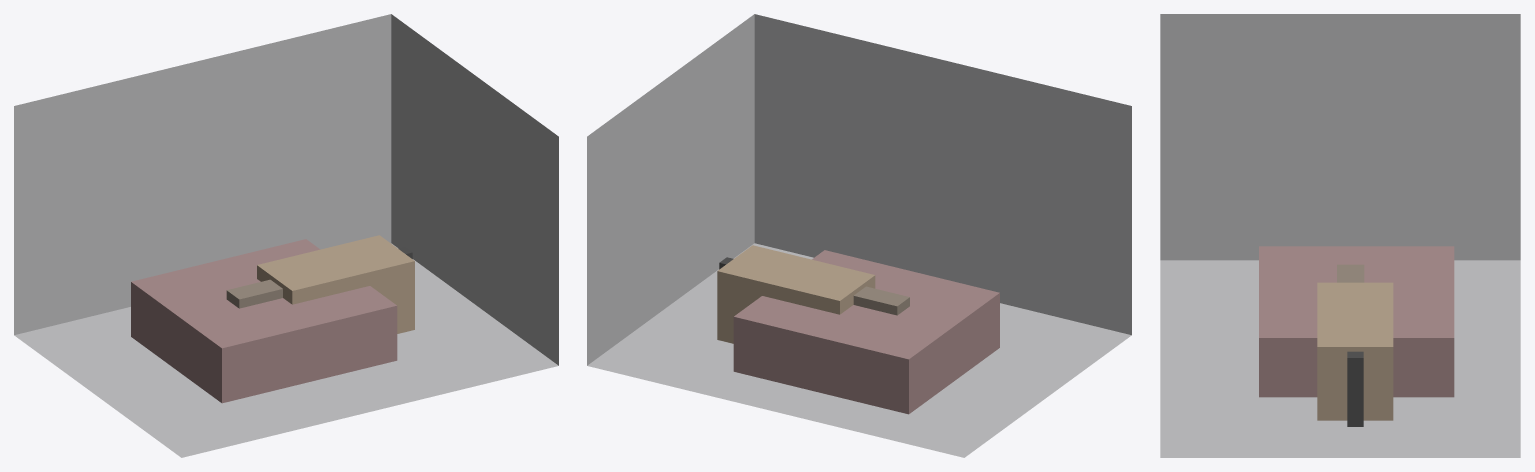
The model's file is optimised_layout.glb.
3 views of the same model, side by side, from view 1: azimuth 30°, elevation 25°; view 2: azimuth 150°, elevation 25°; view 3: azimuth 270°, elevation 25° (orthographic). The views are drawn at different scales.
Parts seen in each view (by area): view 1: room, bed, desk, suitcase; view 2: room, bed, desk, suitcase; view 3: room, bed, desk, tv, suitcase.
Part boxes in pixels (bbox=[...]): room: bbox=[14, 14, 558, 457]; bed: bbox=[131, 239, 397, 403]; desk: bbox=[257, 235, 414, 333]; suitcase: bbox=[226, 279, 282, 308]; room: bbox=[587, 14, 1131, 457]; bed: bbox=[733, 250, 999, 414]; desk: bbox=[717, 245, 875, 343]; suitcase: bbox=[853, 286, 909, 315]; room: bbox=[1160, 14, 1520, 457]; bed: bbox=[1259, 246, 1454, 397]; desk: bbox=[1317, 282, 1393, 420]; tv: bbox=[1347, 351, 1363, 426]; suitcase: bbox=[1337, 264, 1364, 282].
Bounding box in the file's own units: 4.31 × 2.5 × 3.31.
